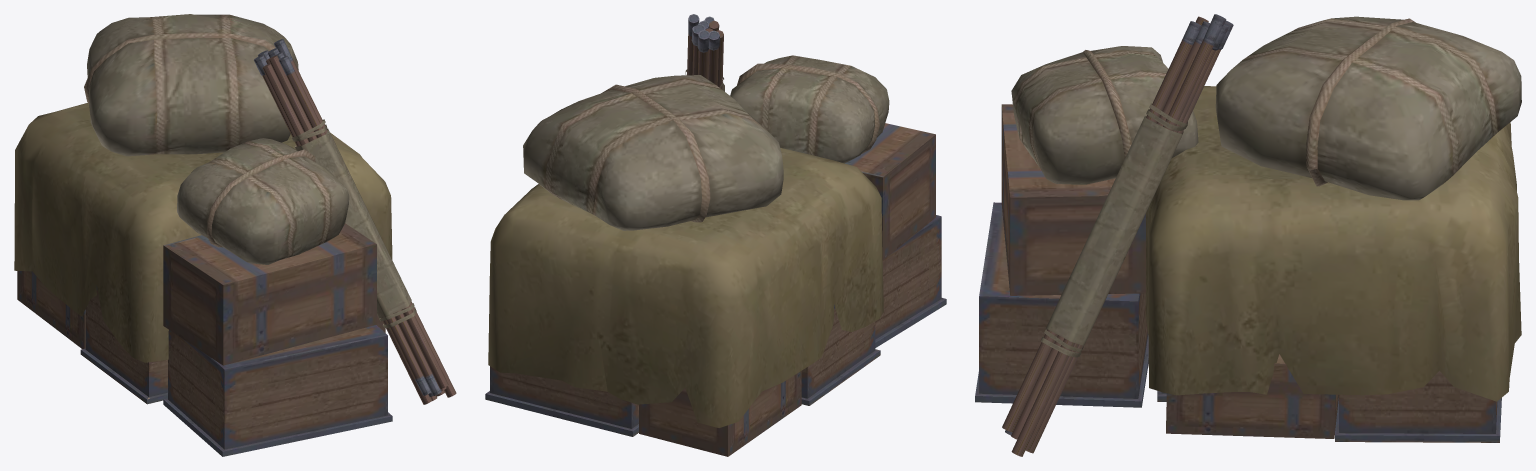
Rendered from sacks.glb.
3 renders of one model, left to right at view 1: azimuth 30°, elevation 25°; view 2: azimuth 150°, elevation 25°; view 3: azimuth 270°, elevation 25°, orthographic. The views are drawn at different scales.
Visible parts, largest first — view 1: mumushejisucai653_4; view 2: mumushejisucai653_4; view 3: mumushejisucai653_4.
Part boxes in pixels (bbox=[...]): mumushejisucai653_4: bbox=[14, 14, 456, 456]; mumushejisucai653_4: bbox=[485, 14, 946, 456]; mumushejisucai653_4: bbox=[975, 14, 1521, 456].
Size of the model in its own units: 0.997 by 1.2 by 1.51.
Materials: 1 (1 with a texture image).
